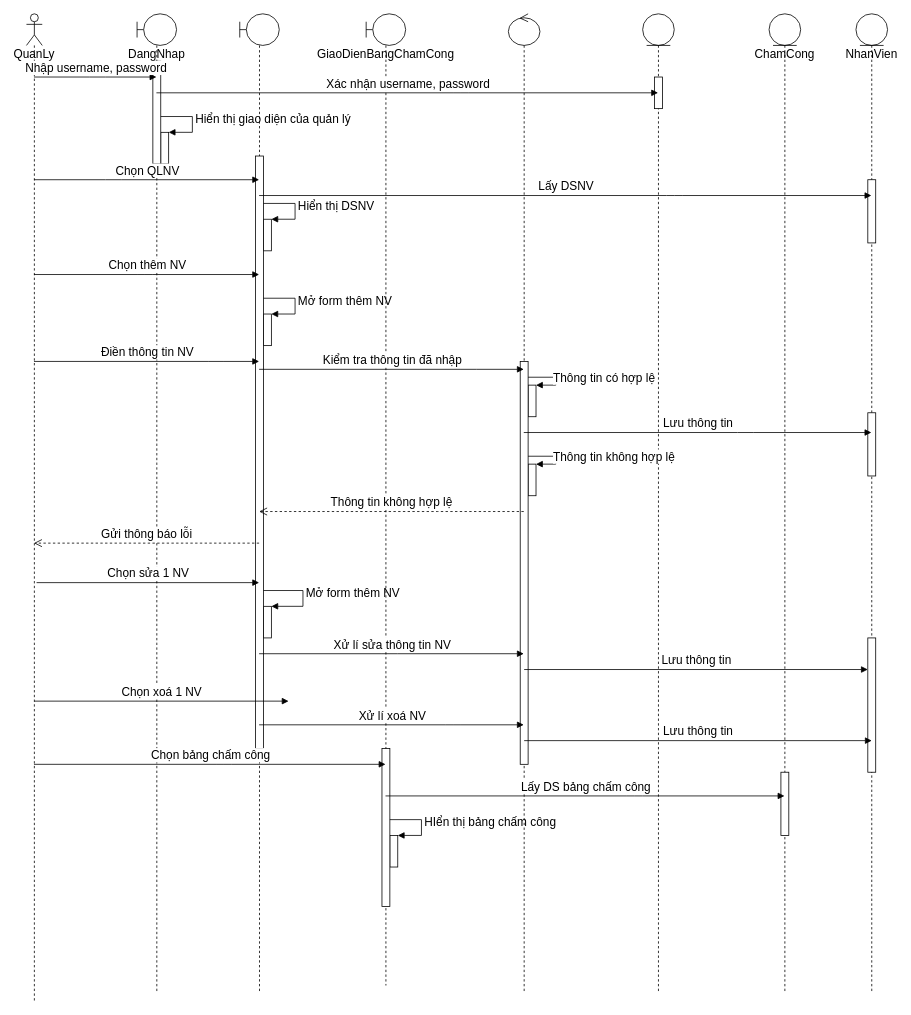
This 911x1015 diagram has some shape labels left out. The shapes that lost their labels are listed below. From the top down, each one's box as (x1, y1, x2, y2) in pixels, then its label:
(239, 13, 279, 993): GiaoDienQLNV
(508, 13, 540, 993): XuLyThongTinNV
(642, 13, 674, 993): Tài khoản
